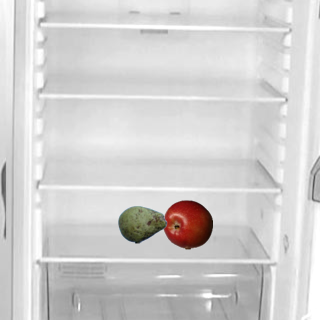Apple Braeburn: (162, 199, 212, 249)
Pear Stone: (117, 199, 167, 249)
